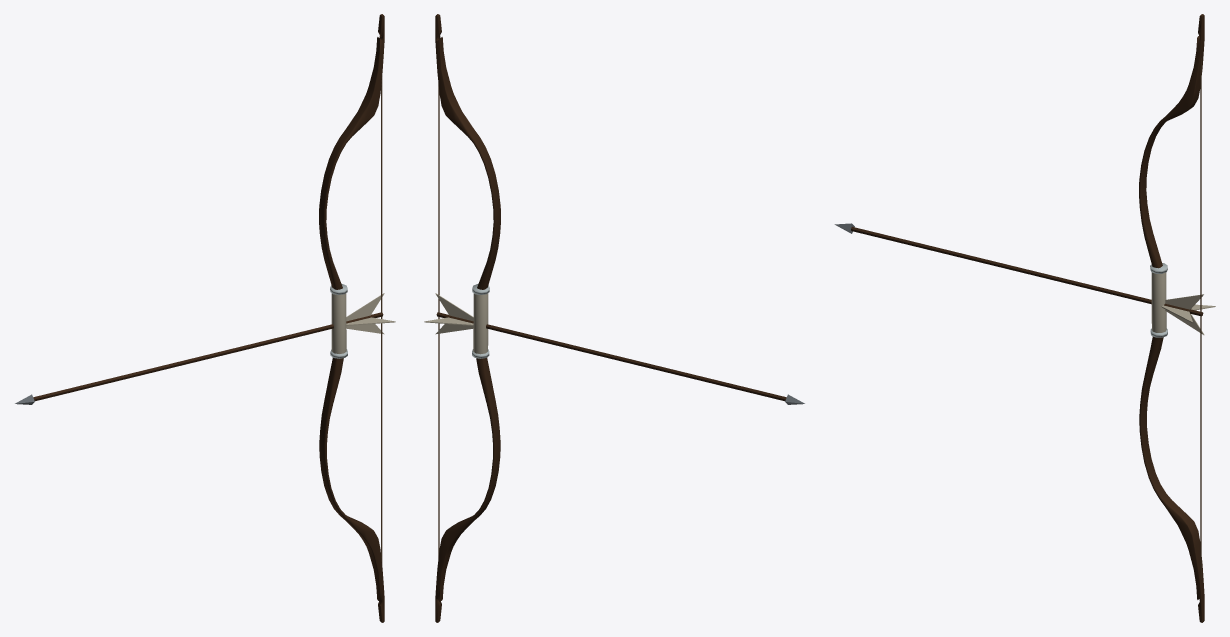
3 renders of one model, left to right at view 1: azimuth 30°, elevation 25°; view 2: azimuth 150°, elevation 25°; view 3: azimuth 330°, elevation 25°, orthographic.
Visible parts, largest first — view 1: SM_LongBow_01_LOD0; view 2: SM_LongBow_01_LOD0; view 3: SM_LongBow_01_LOD0.
Boxes of the visible parts, x1,y1,x2,y2 form: SM_LongBow_01_LOD0: [15, 14, 395, 622]; SM_LongBow_01_LOD0: [424, 14, 804, 622]; SM_LongBow_01_LOD0: [834, 14, 1215, 622].
Bounding box in the file's own units: 1.34 × 2.1 × 0.1413.
